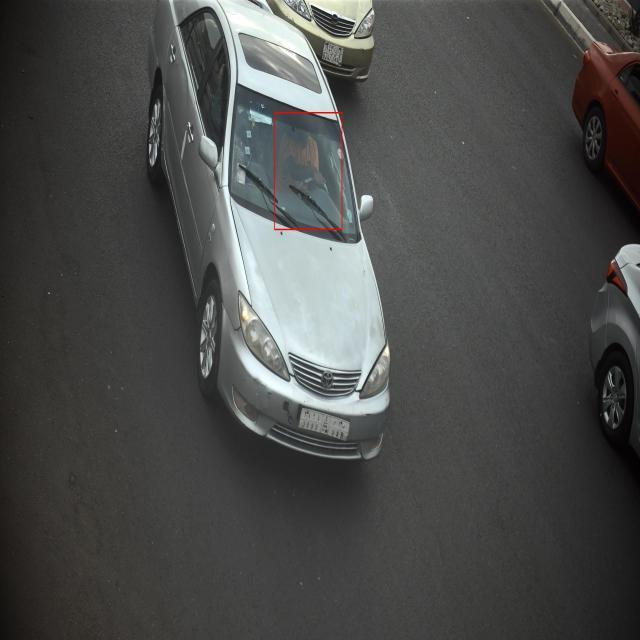windshield: (220, 83, 368, 256)
